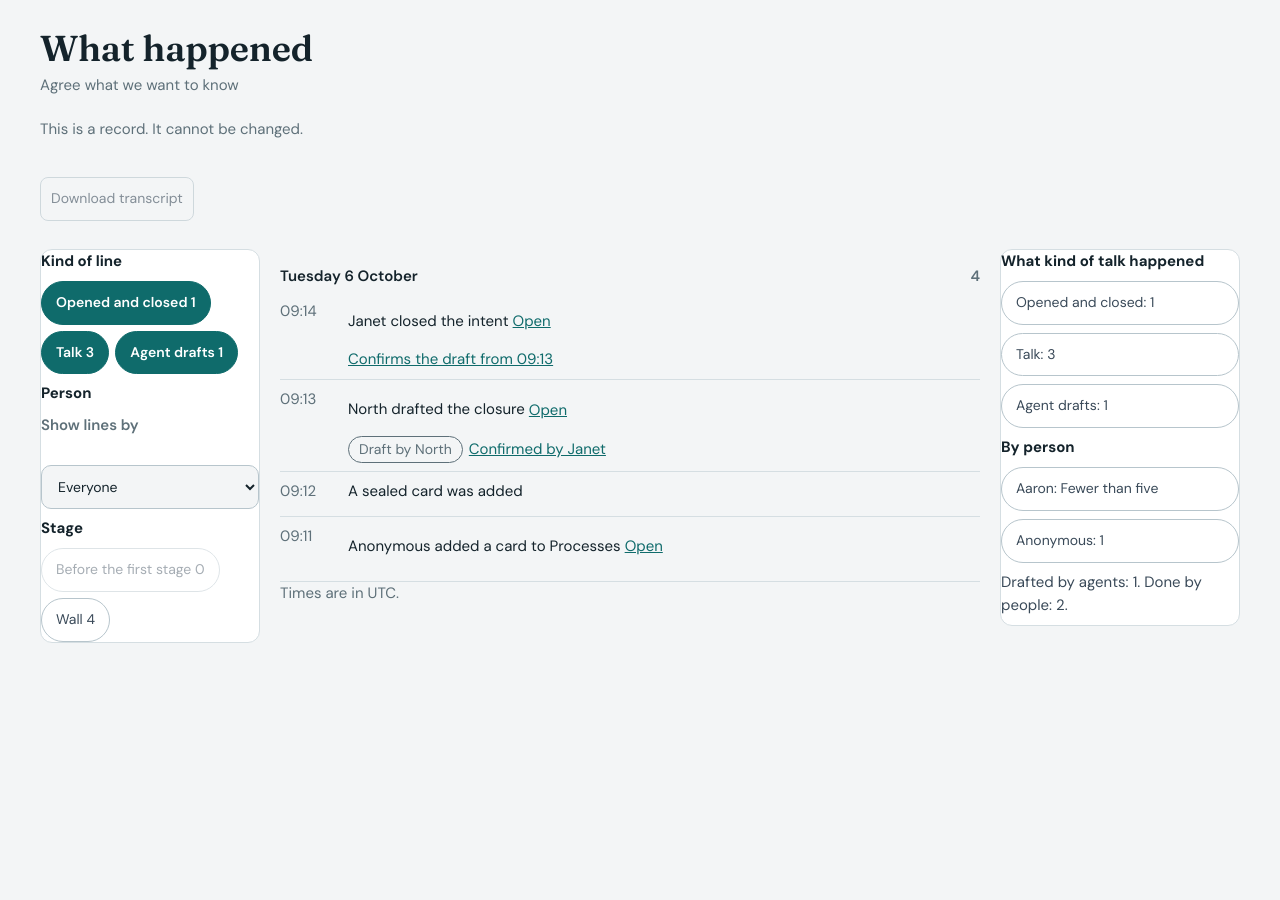
Test: What happened › asks the server again when a kind chip is turned off
The width and height of the screenshot is (1280, 900).
expect the text "Janet closed the intent" is shown: met, box [348,311,509,331]
Click the button "Talk 3" at x=75, y=353, box [41,331,109,374]
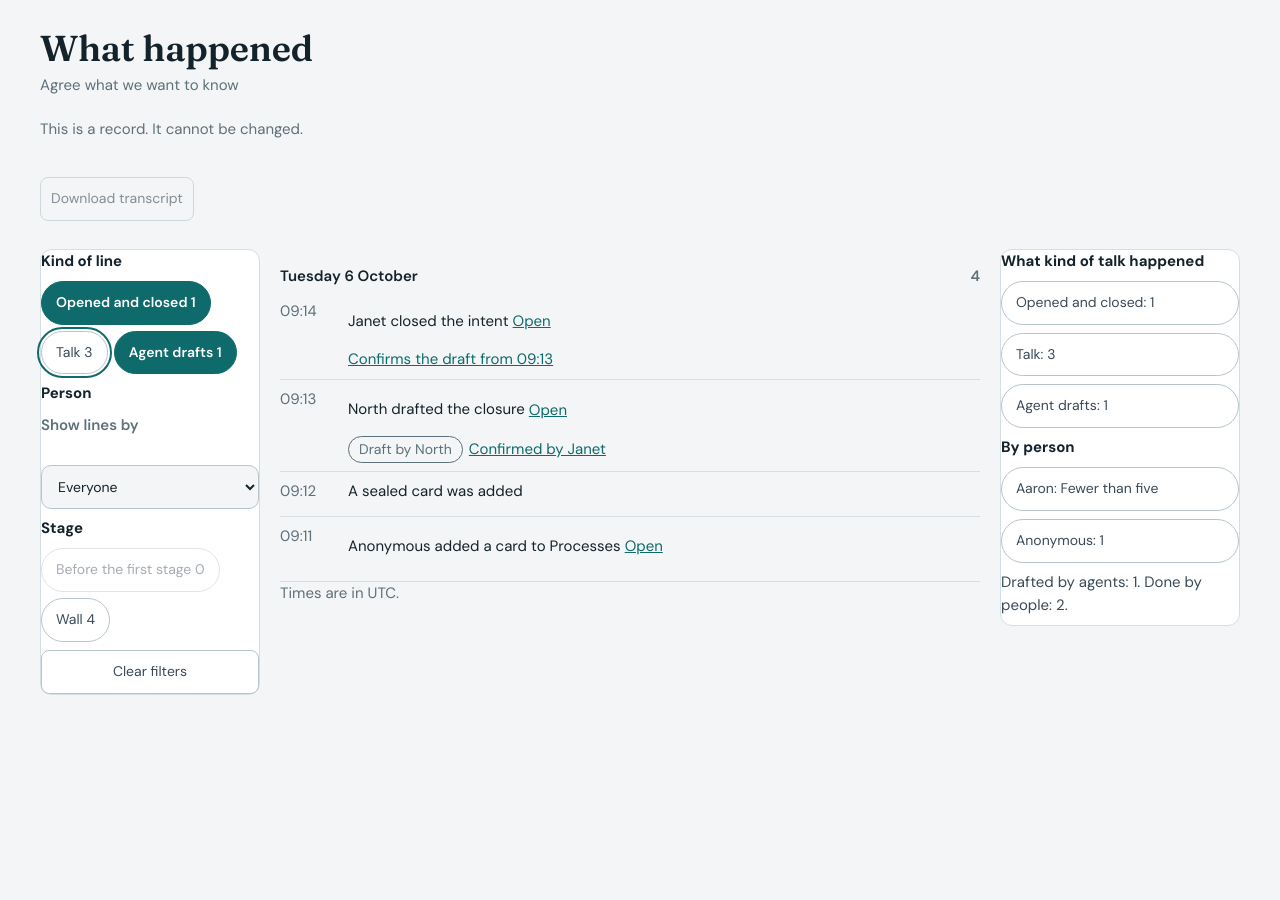
expect the button "Clear filters" is shown: met, box [41,650,259,694]
